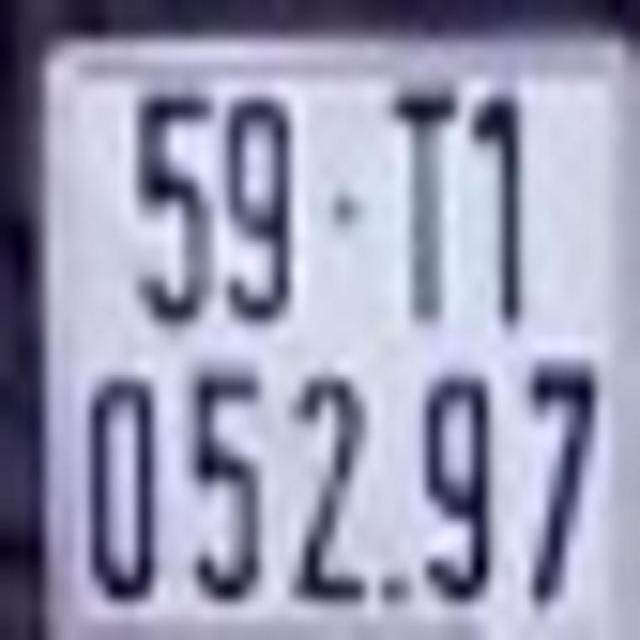0: (88, 384, 160, 600)
1: (474, 92, 529, 319)
2: (293, 379, 367, 599)
5: (133, 91, 216, 316), (196, 380, 264, 596)
7: (522, 364, 602, 606)
9: (424, 376, 491, 601), (224, 101, 291, 318)
T: (384, 96, 454, 321)
